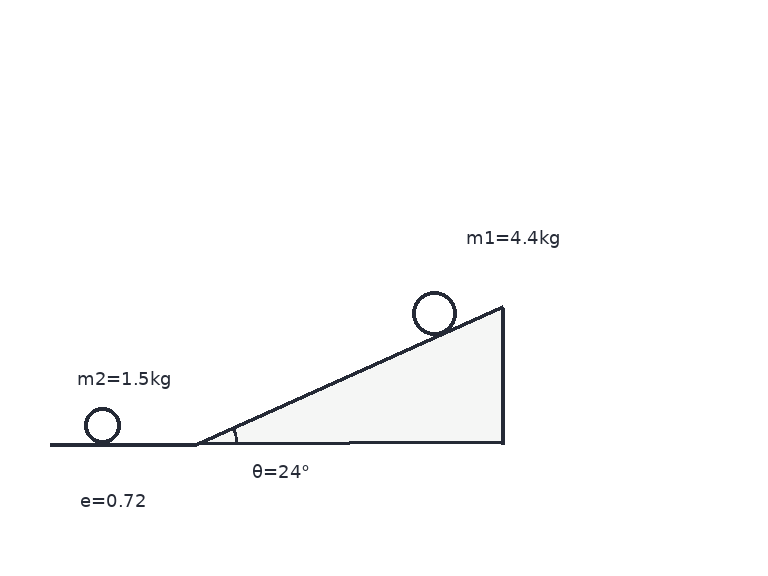ball: (410, 289, 458, 337), (82, 405, 122, 445)
ramp: (194, 305, 504, 445)
